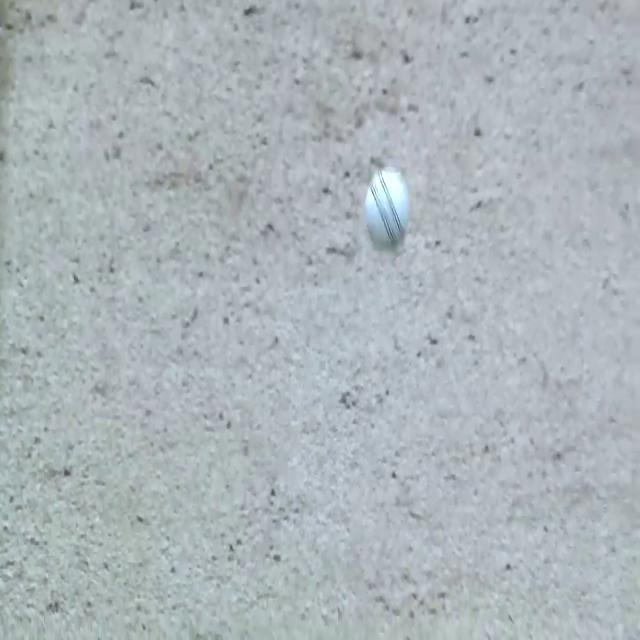ball: (362, 160, 414, 261)
